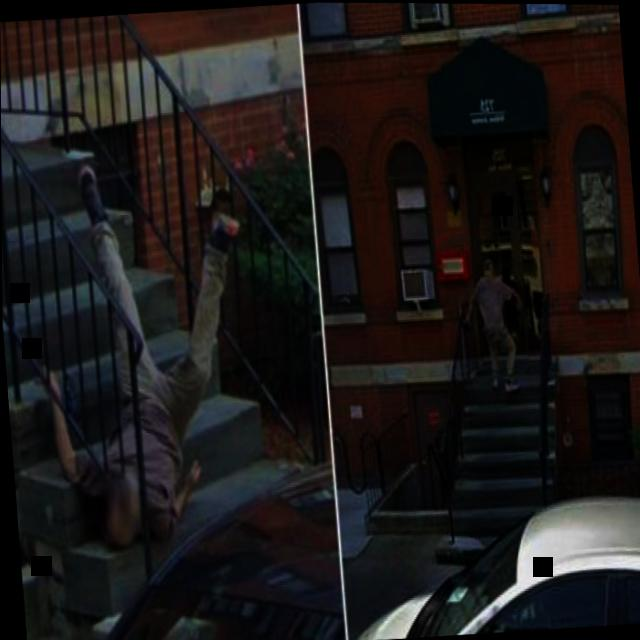Fall-Detected: (11, 129, 280, 559)
